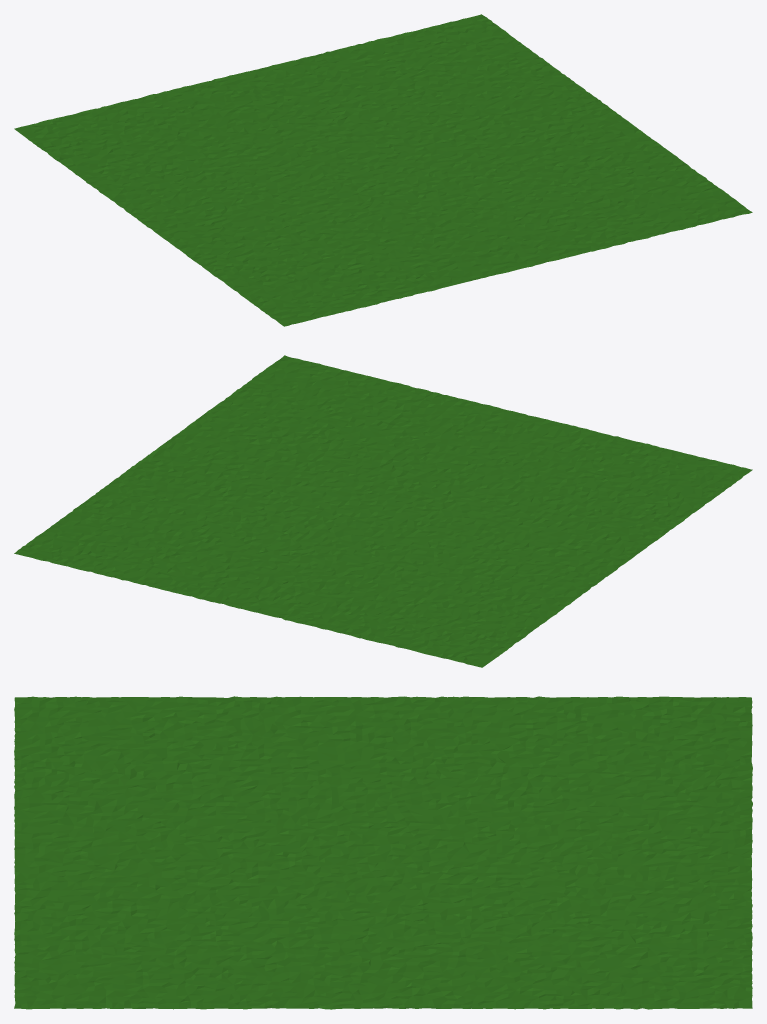
The model's file is ground.glb.
3 renders of one model, top to bottom at view 1: azimuth 30°, elevation 25°; view 2: azimuth 150°, elevation 25°; view 3: azimuth 270°, elevation 25°, orthographic. The views are drawn at different scales.
Visible parts, largest first — view 1: Ground-col; view 2: Ground-col; view 3: Ground-col.
Boxes of the visible parts, bbox=[...] form: Ground-col: bbox=[14, 14, 752, 326]; Ground-col: bbox=[14, 355, 752, 667]; Ground-col: bbox=[14, 696, 752, 1009].
Bounding box in the file's own units: 64.14 × 0.161 × 64.14.
